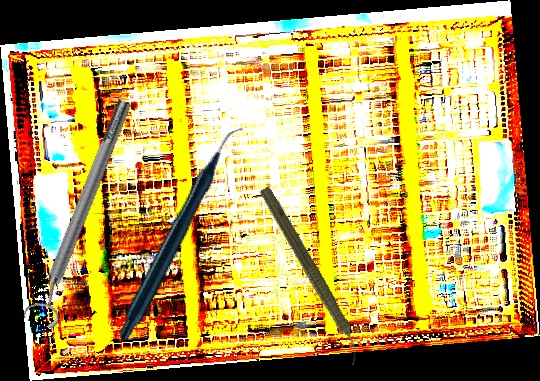Fixation Ring: (19, 94, 145, 331)
Handpiece: (60, 126, 304, 342), (252, 184, 372, 367)
